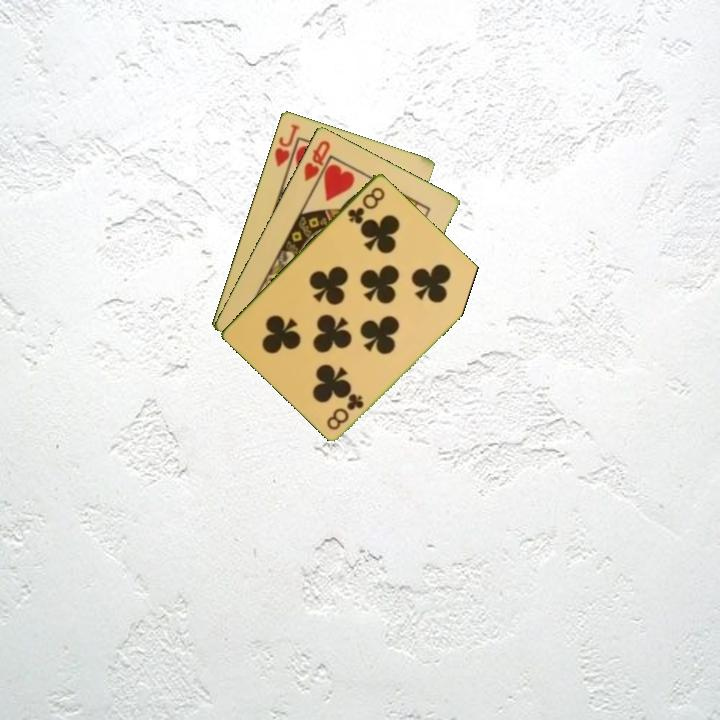8c: (344, 183, 388, 226), (323, 390, 367, 433)
Jh: (271, 120, 302, 169)
Qh: (300, 136, 333, 184)
